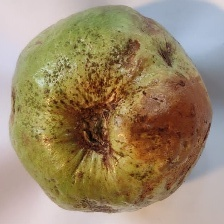guava: (22, 19, 167, 218)
